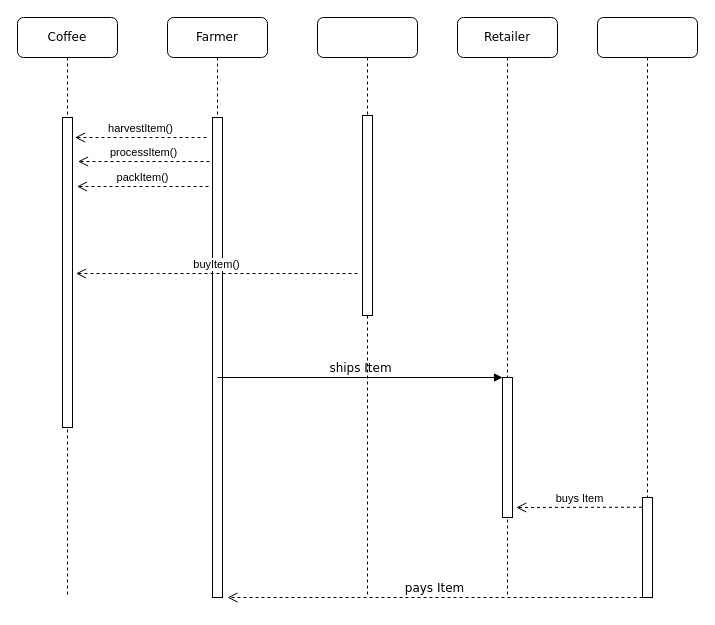
Some shapes in this 715 by 625 pixel diagram are drawn without their labels. Here are the shapes that lost their labels. From the top down, the box of each, then its label:
(316, 16, 418, 598): Distributor
(596, 16, 698, 598): Consumer
